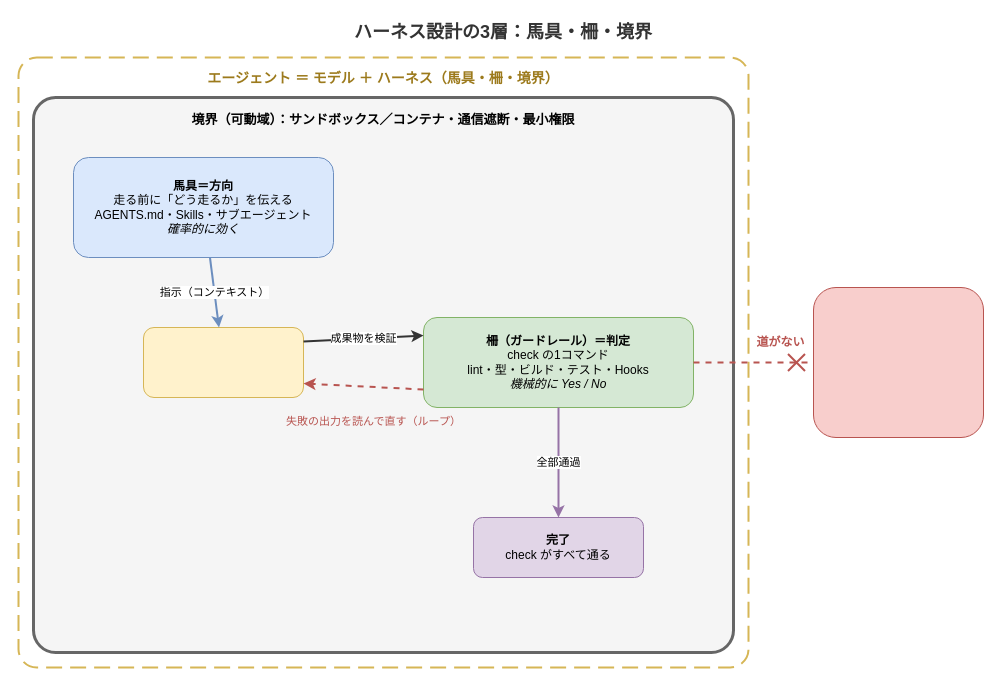
Some shapes in this 1001 by 685 pixel diagram are drawn without their labels. Here are the shapes that lost their labels. From the top down, the centre of each, then its label:
At (223,362): "モデル（LLM） 実装する".
At (898,362): "到達不能な資産 本番環境 本番 DB 機密・認証情報 個人情報".
